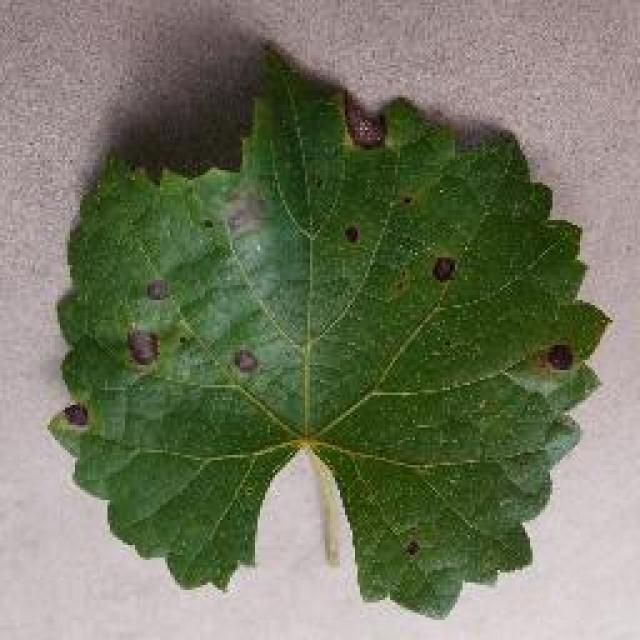Grape___Black_rot: (38, 29, 620, 628)
